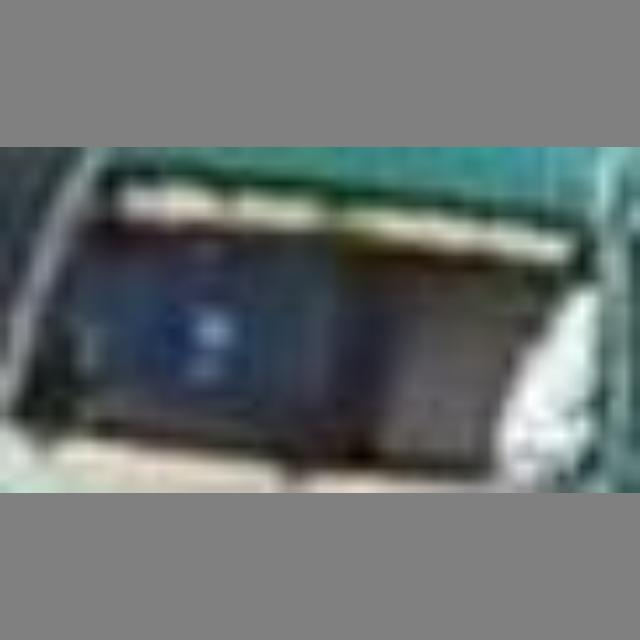tidak-pakai: (73, 189, 336, 409)
